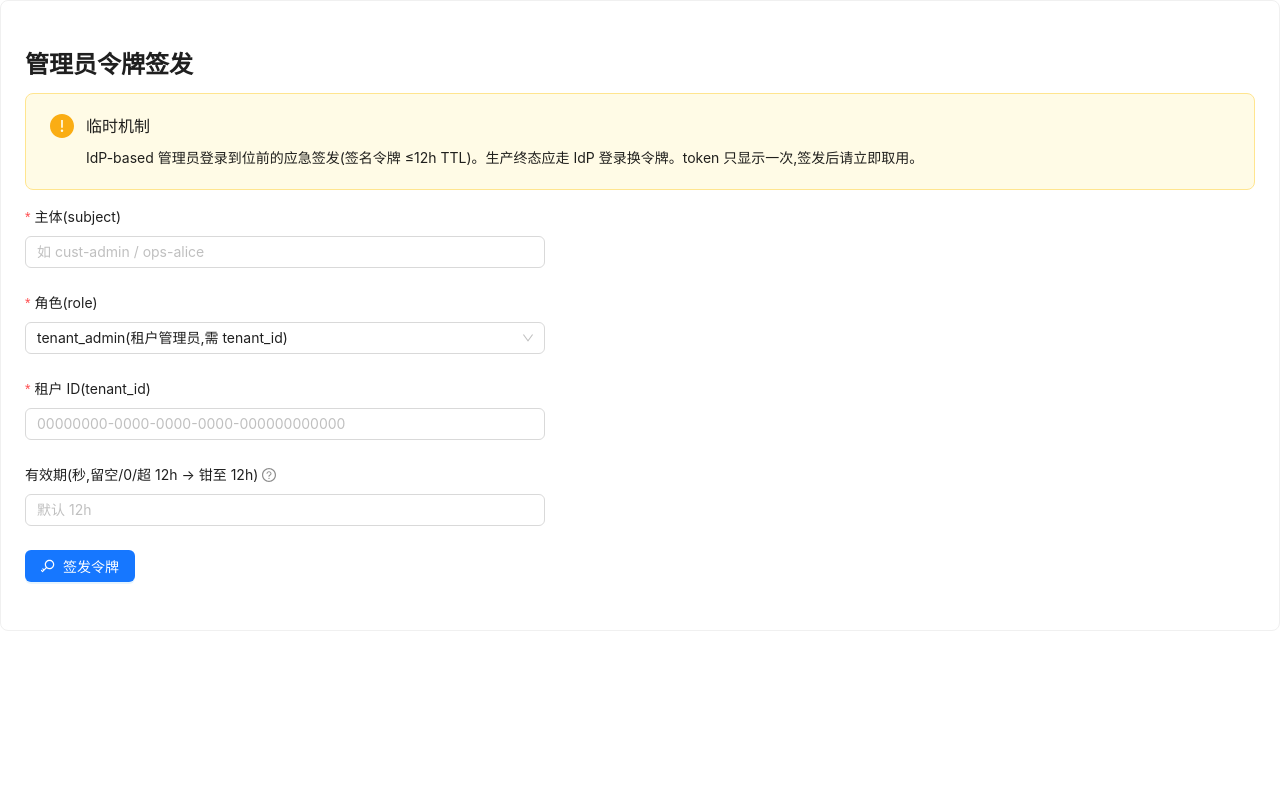
Test: AdminTokens 页 › 签发 tenant_admin 令牌:POST 对账 + 成功 Modal 显示 token
Type "cust-admin" into the field with placeholder "如 cust-admin / ops-alice".
click(285, 252); type("cust-admin")  # box [25,236,545,268]
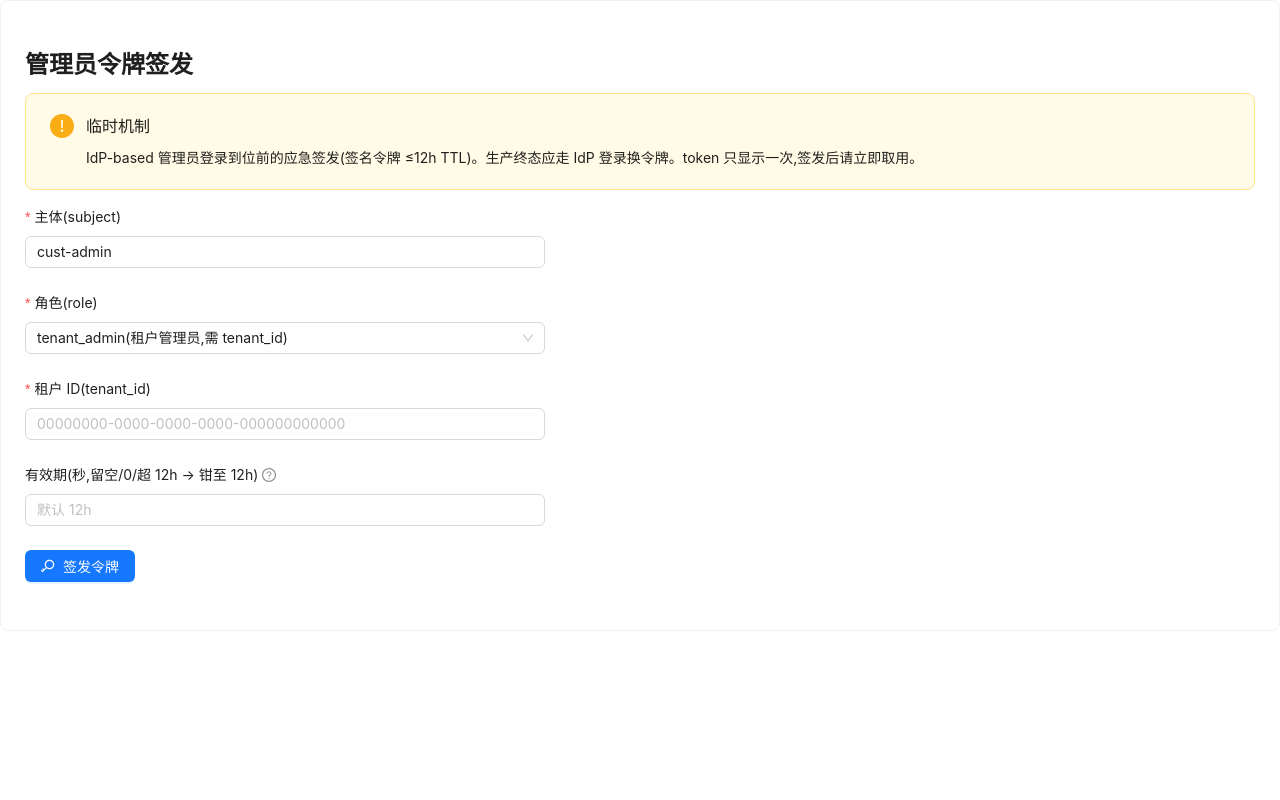
Type "tttttttt-0000-0000-0000-000000000000" into the field with placeholder "00000000-0000-0000-0000-000000000000".
click(285, 424); type("tttttttt-0000-0000-0000-000000000000")  # box [25,408,545,440]
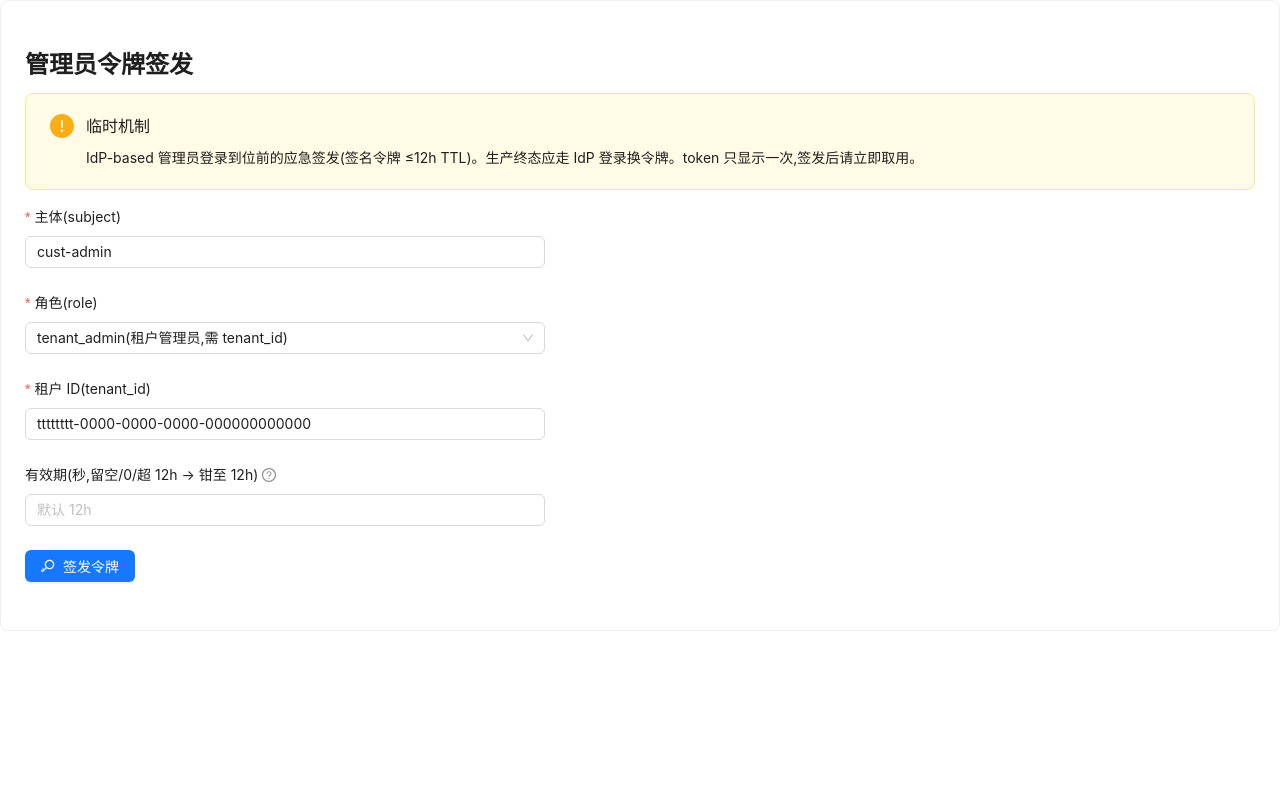
Click the button "签发令牌".
click(80, 566)  # box [25,550,135,582]
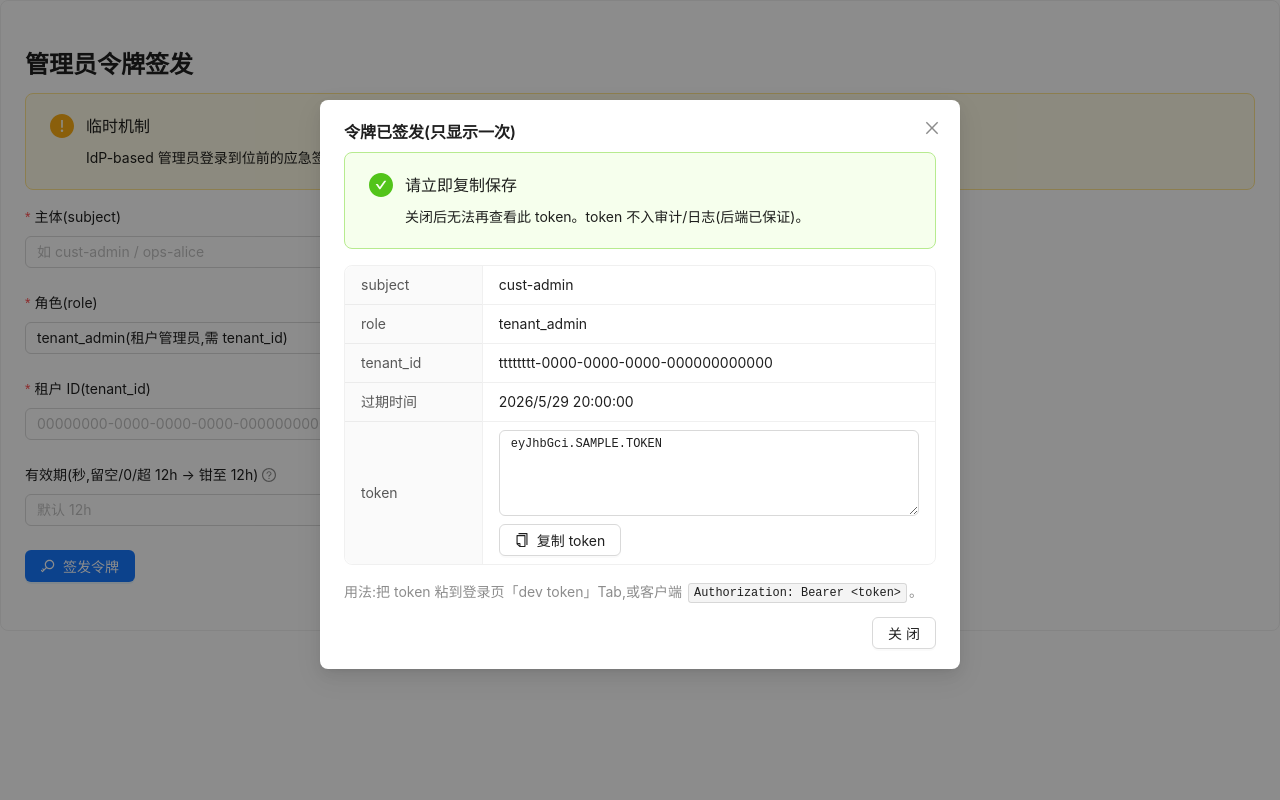
Now the text "令牌已签发(只显示一次)" is shown, box [344,122,516,142]
Now the text box showing "eyJhbGci.SAMPLE.TOKEN" is shown, box [499,430,919,516]
